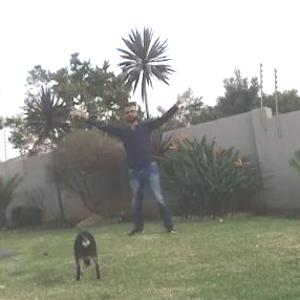takeoff: (71, 96, 186, 228)
